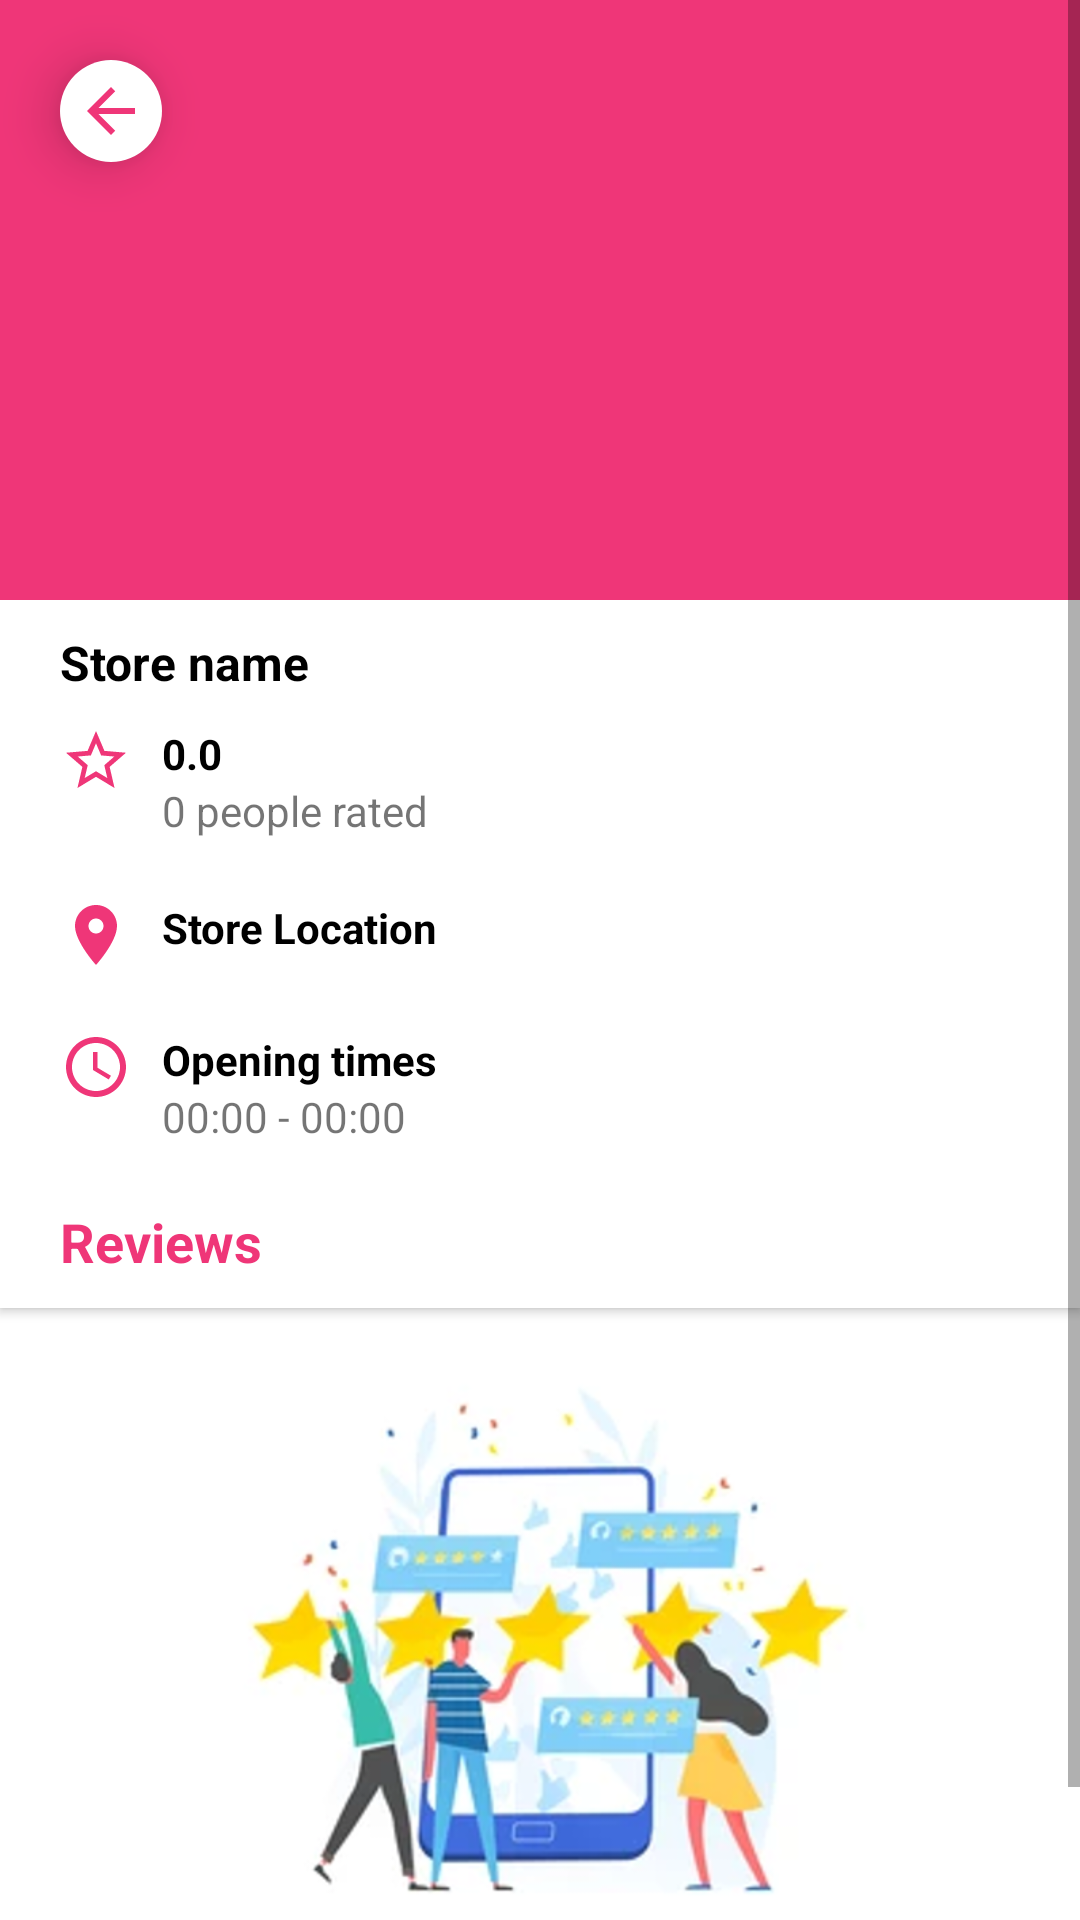

Named icons in this screenshot (1080 × 1920) and their centers, point (x, y):
back: point (111, 111)
star: point (96, 759)
